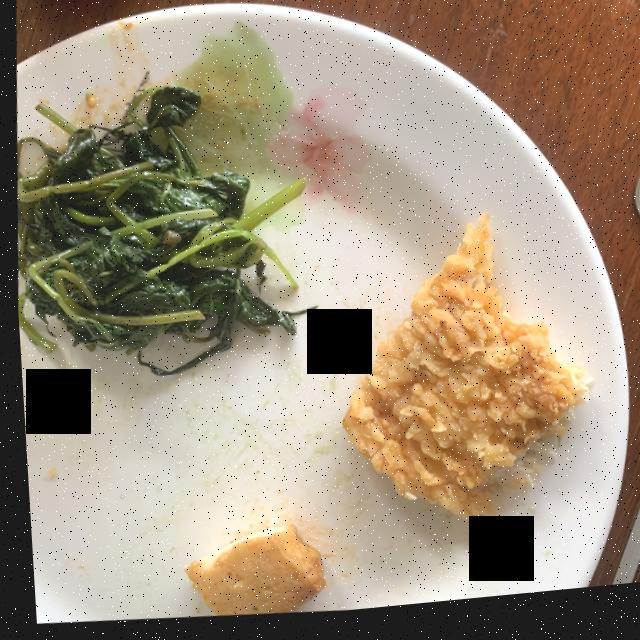coin: (633, 186, 640, 234)
creamy tofu: (178, 528, 318, 619)
fried chicken cutlet: (338, 224, 583, 529)
sweet potato leaves: (15, 90, 303, 378)
